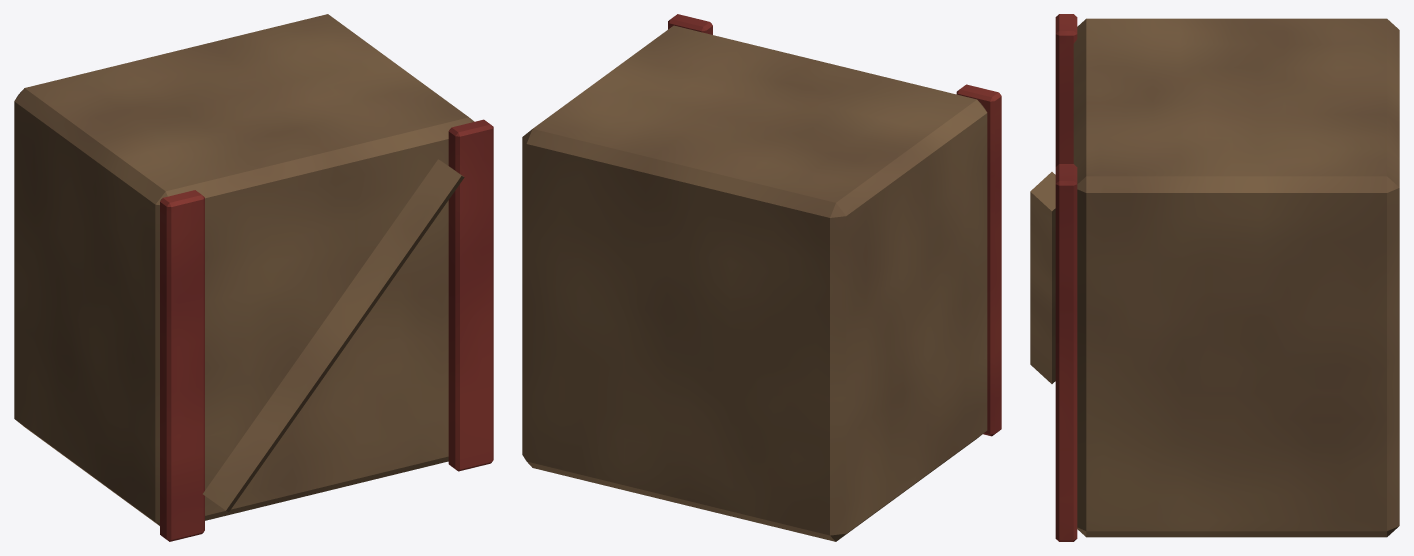
The model's file is crate.glb.
3 renders of one model, left to right at view 1: azimuth 30°, elevation 25°; view 2: azimuth 150°, elevation 25°; view 3: azimuth 270°, elevation 25°, orthographic. The views are drawn at different scales.
Parts seen in each view (by area): view 1: crate; view 2: crate; view 3: crate.
Part boxes in pixels (left/top/right/bottom): crate: left=14, top=14, right=493, bottom=541; crate: left=522, top=14, right=1001, bottom=541; crate: left=1030, top=14, right=1399, bottom=541.
Bounding box in the file's own units: 1.11 × 1.1 × 1.02.
Materials: 2 (2 with a texture image).
